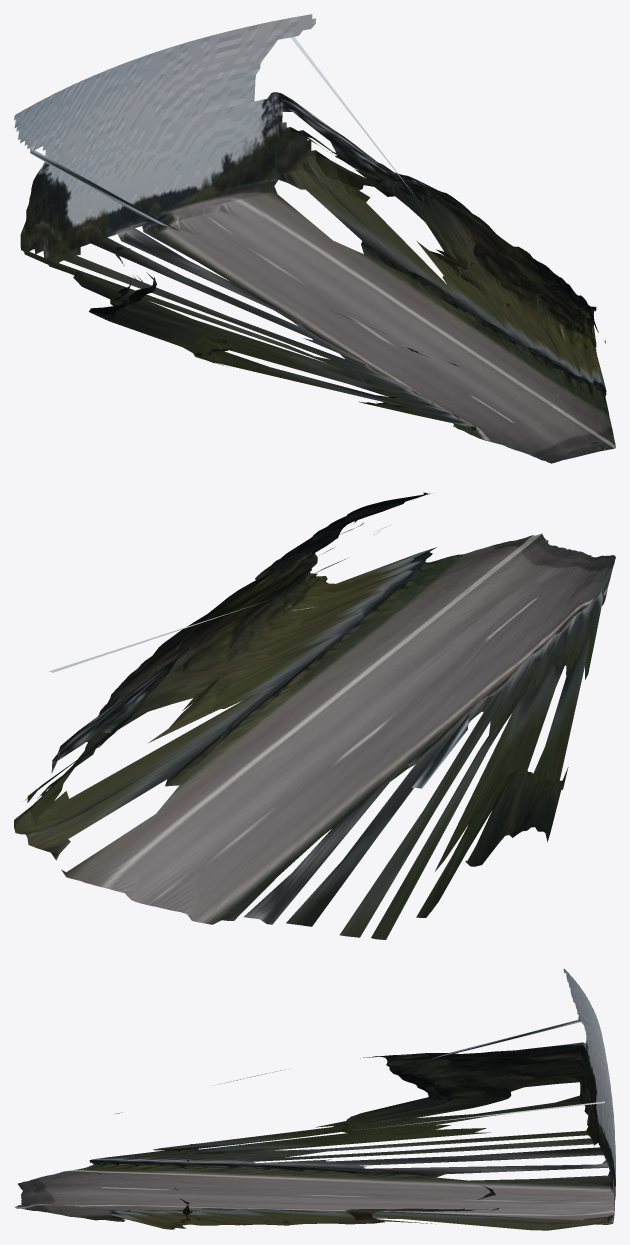
The picture shows the model from 3 angles, top to bottom: view 1: azimuth 30°, elevation 25°; view 2: azimuth 150°, elevation 25°; view 3: azimuth 270°, elevation 25°; orthographic projection. The views are drawn at different scales.
Visible parts, largest first — view 1: defaultobject; view 2: defaultobject; view 3: defaultobject.
Boxes of the visible parts, x1,y1,x2,y2 form: defaultobject: (14, 14, 615, 463); defaultobject: (14, 492, 615, 939); defaultobject: (14, 969, 615, 1230).
Size of the model in its own units: 25.38 by 12.84 by 44.92.
Materials: 1 (1 with a texture image).
